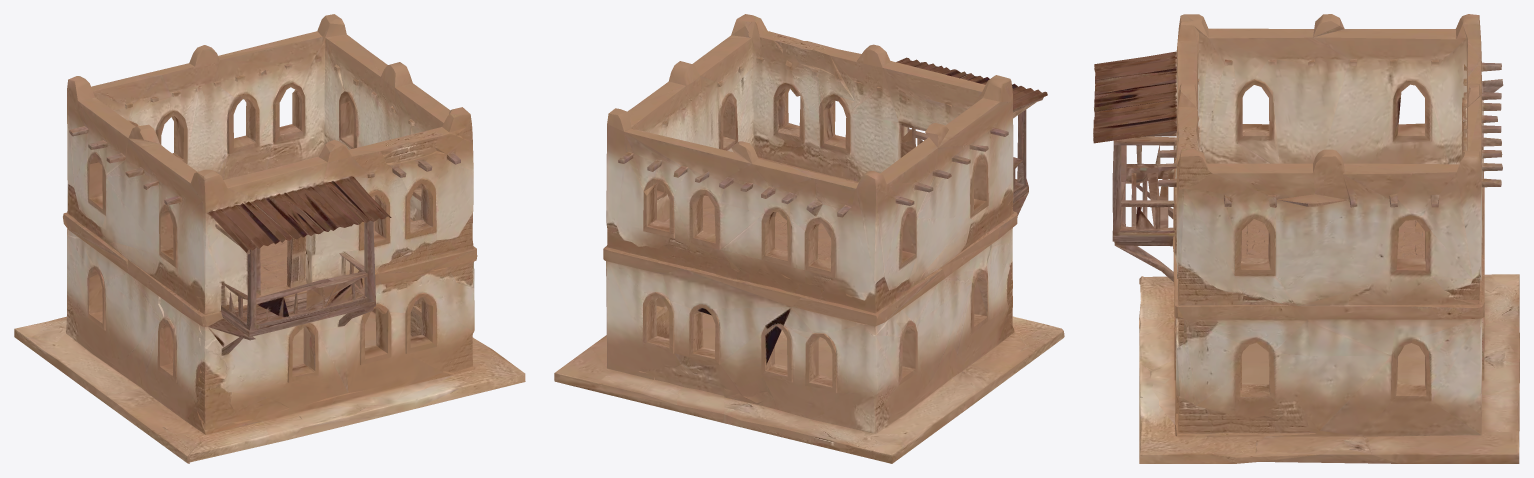
Rendered from adobe_house_b.glb.
3 views of the same model, side by side, from view 1: azimuth 30°, elevation 25°; view 2: azimuth 150°, elevation 25°; view 3: azimuth 270°, elevation 25° (orthographic). The views are drawn at different scales.
Parts seen in each view (by area): view 1: Mesh_0; view 2: Mesh_0; view 3: Mesh_0.
Boxes of the visible parts, bbox=[...] form: Mesh_0: bbox=[14, 14, 525, 463]; Mesh_0: bbox=[554, 14, 1064, 463]; Mesh_0: bbox=[1093, 14, 1519, 463].
Size of the model in its own units: 1.9 by 1.42 by 1.9.
1 material, 1 textured.
